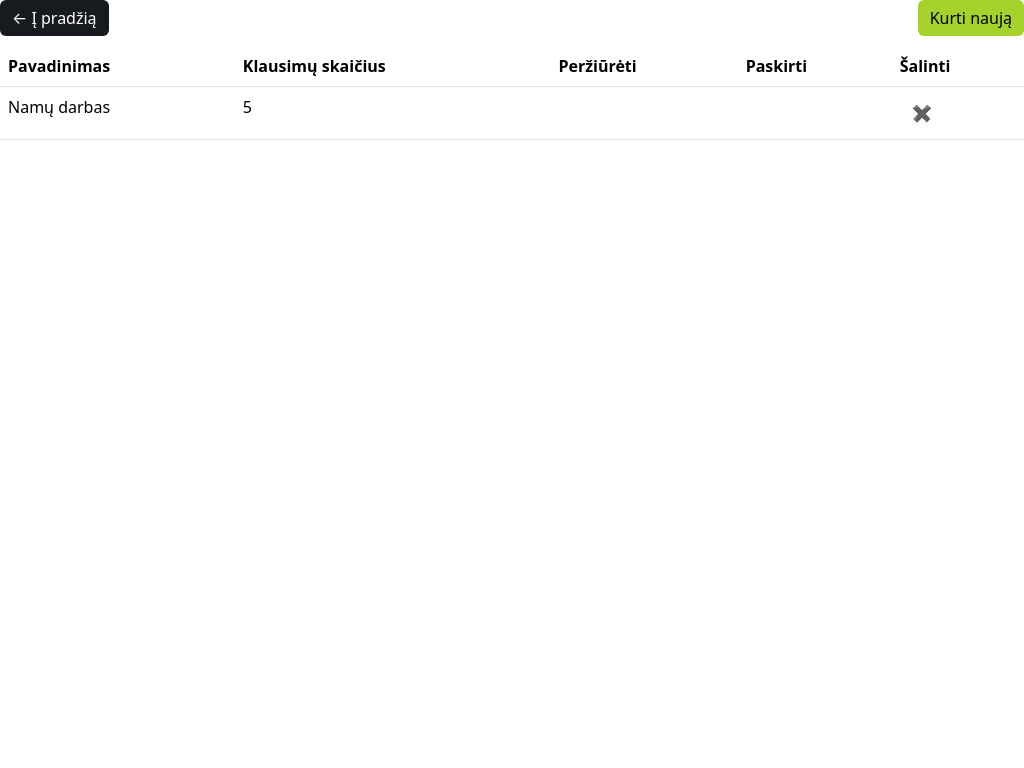
Test: AllHomework component › shows error message when delete request fails
Click the button "✖": [922, 113] box x1=900 y1=95 x2=944 y2=131
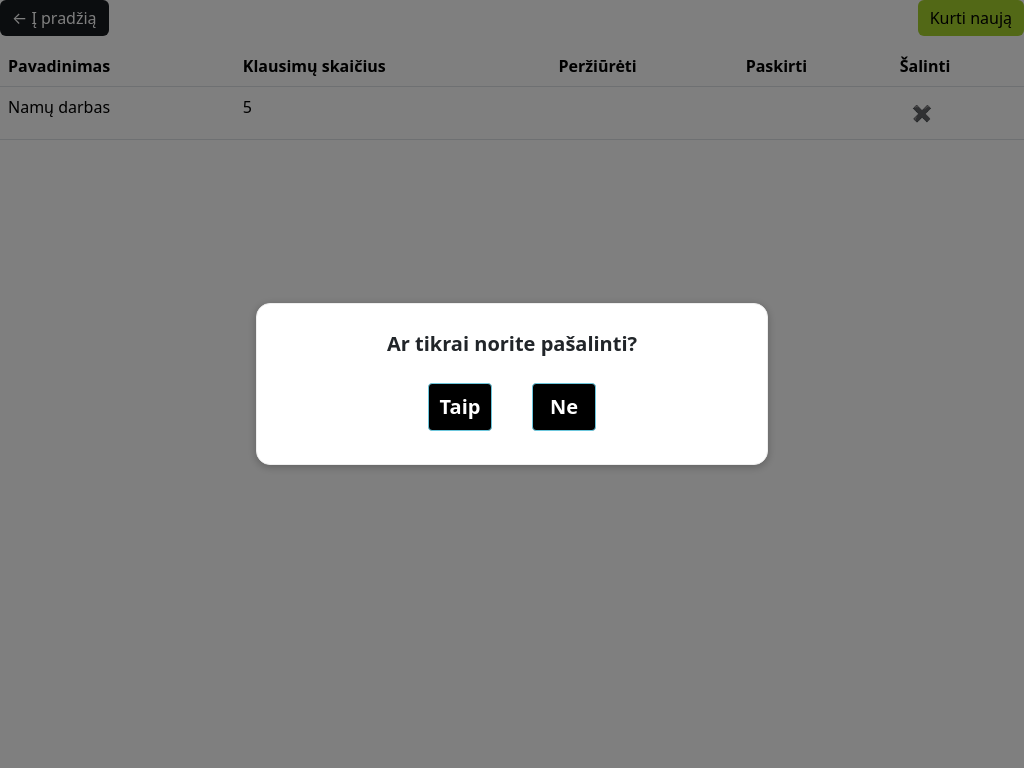
Click the button "Taip": [460, 407] box x1=428 y1=383 x2=492 y2=431
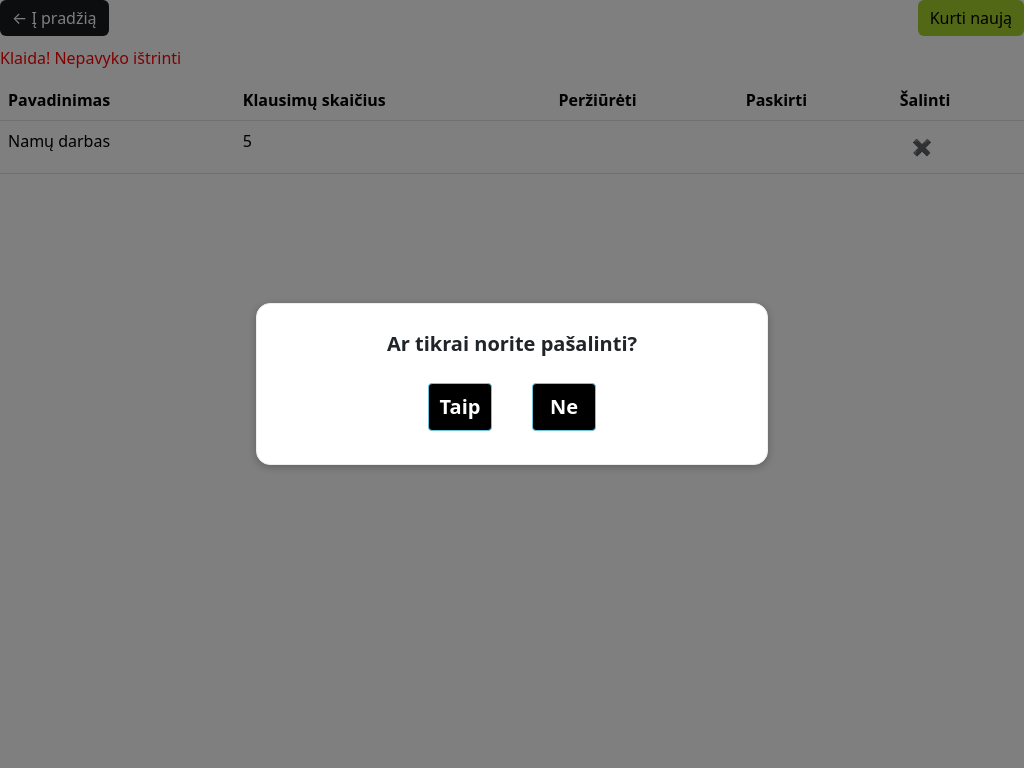
Expected: the text "Klaida! Nepavyko ištrinti" is shown, x1=0 y1=47 x2=181 y2=69
